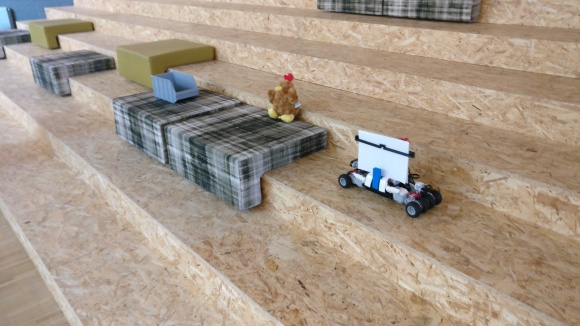car: (336, 129, 445, 217)
chicken: (265, 72, 303, 123)
tray: (149, 68, 199, 103)
